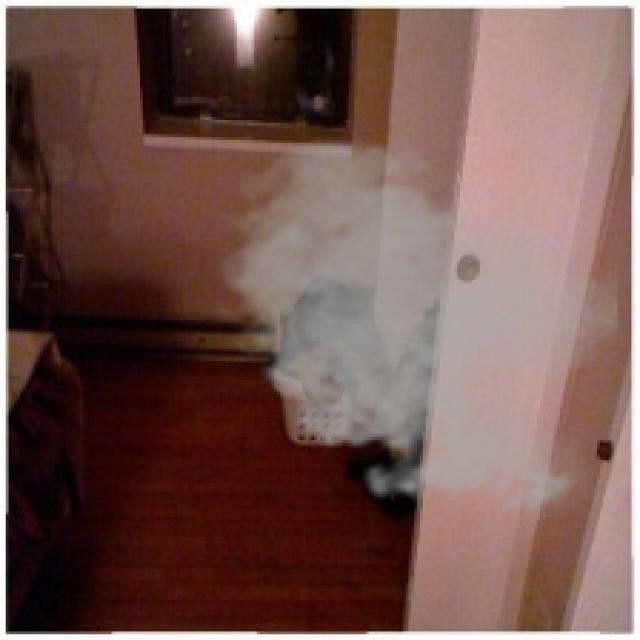Smoke: (206, 128, 623, 526)
